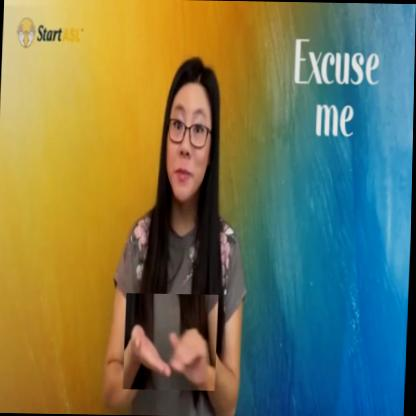ExcuseMe: (124, 292, 219, 390)
